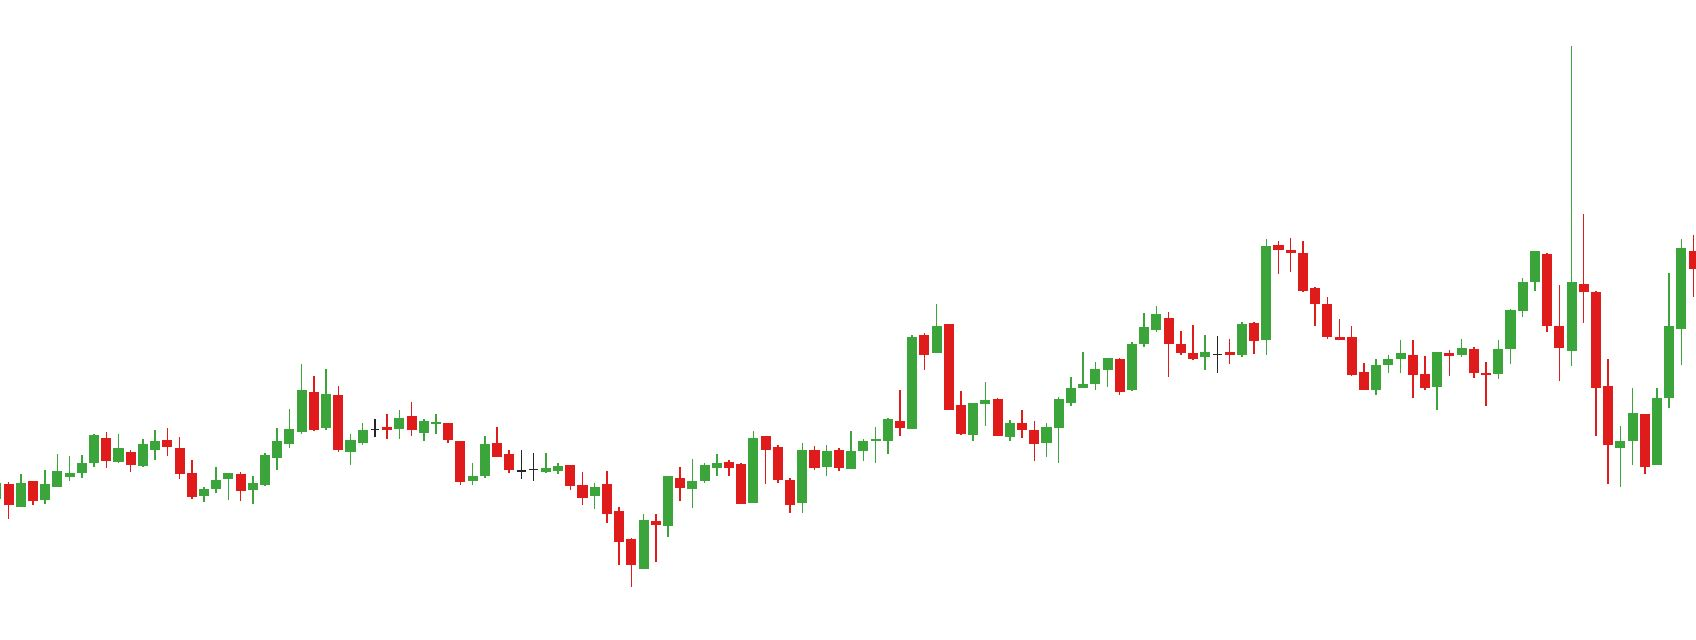buy: (1025, 319, 1627, 489)
